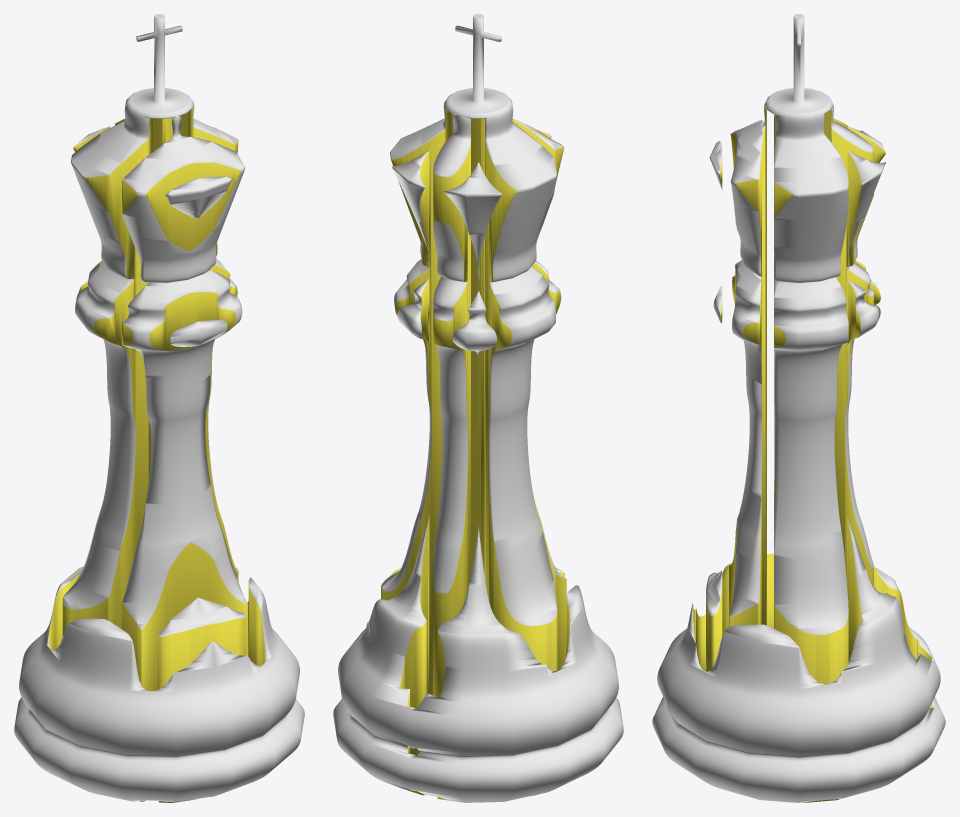
File: WhiteKing.fbx
3 renders of one model, left to right at view 1: azimuth 30°, elevation 25°; view 2: azimuth 150°, elevation 25°; view 3: azimuth 270°, elevation 25°, orthographic.
Parts seen in each view (by area): view 1: King; view 2: King; view 3: King.
Part boxes in pixels (left/top/right/bottom): King: left=14, top=14, right=304, bottom=802; King: left=333, top=14, right=623, bottom=802; King: left=652, top=14, right=945, bottom=802.
Size of the model in its own units: 71.08 by 200 by 71.08.
